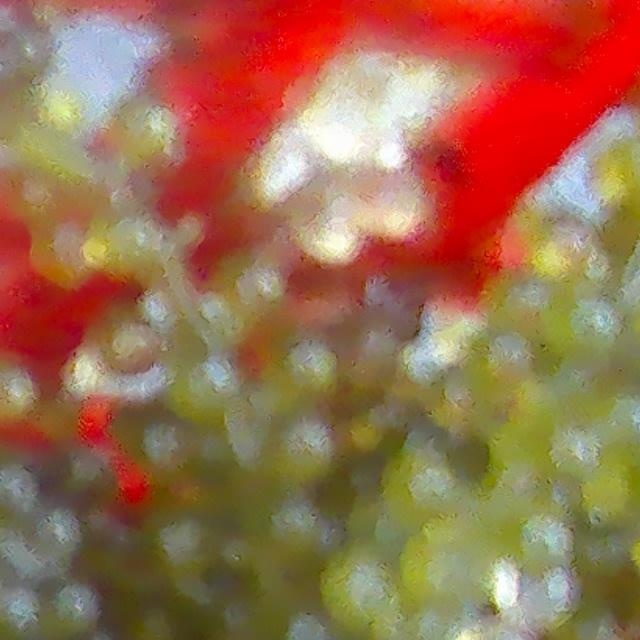SeaGrape: (287, 184, 373, 268), (349, 160, 431, 236), (487, 558, 574, 627)
